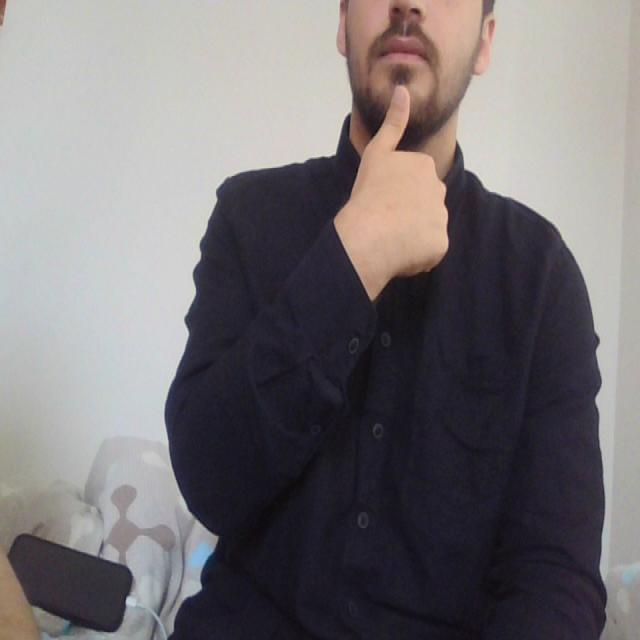Baba: (356, 32, 437, 158)
